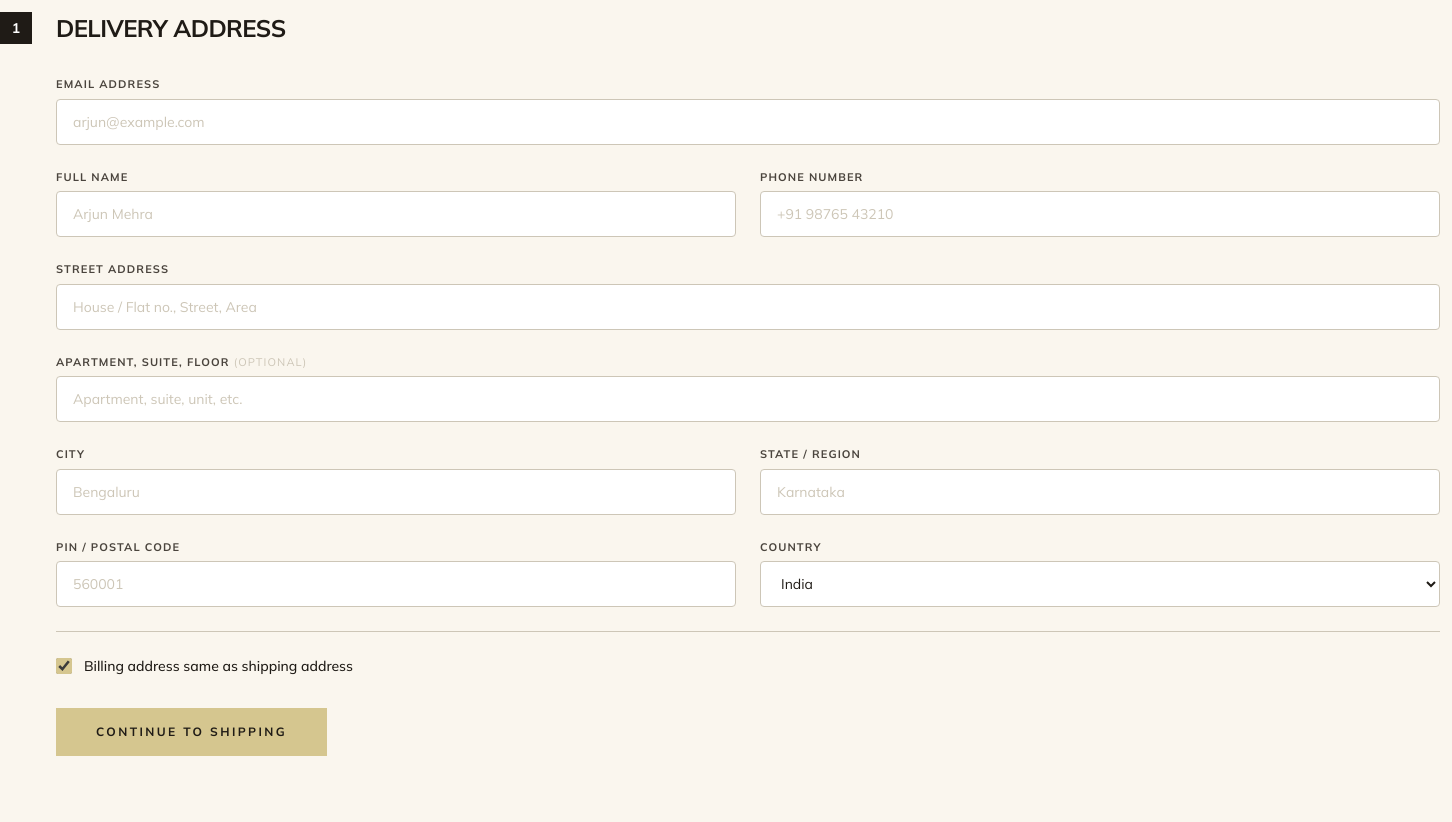
it: AddressStep › shows email format error for invalid email
Type "not-an-email" into the field with test id "input-email" at (748, 122), box [56,98,1440,144]
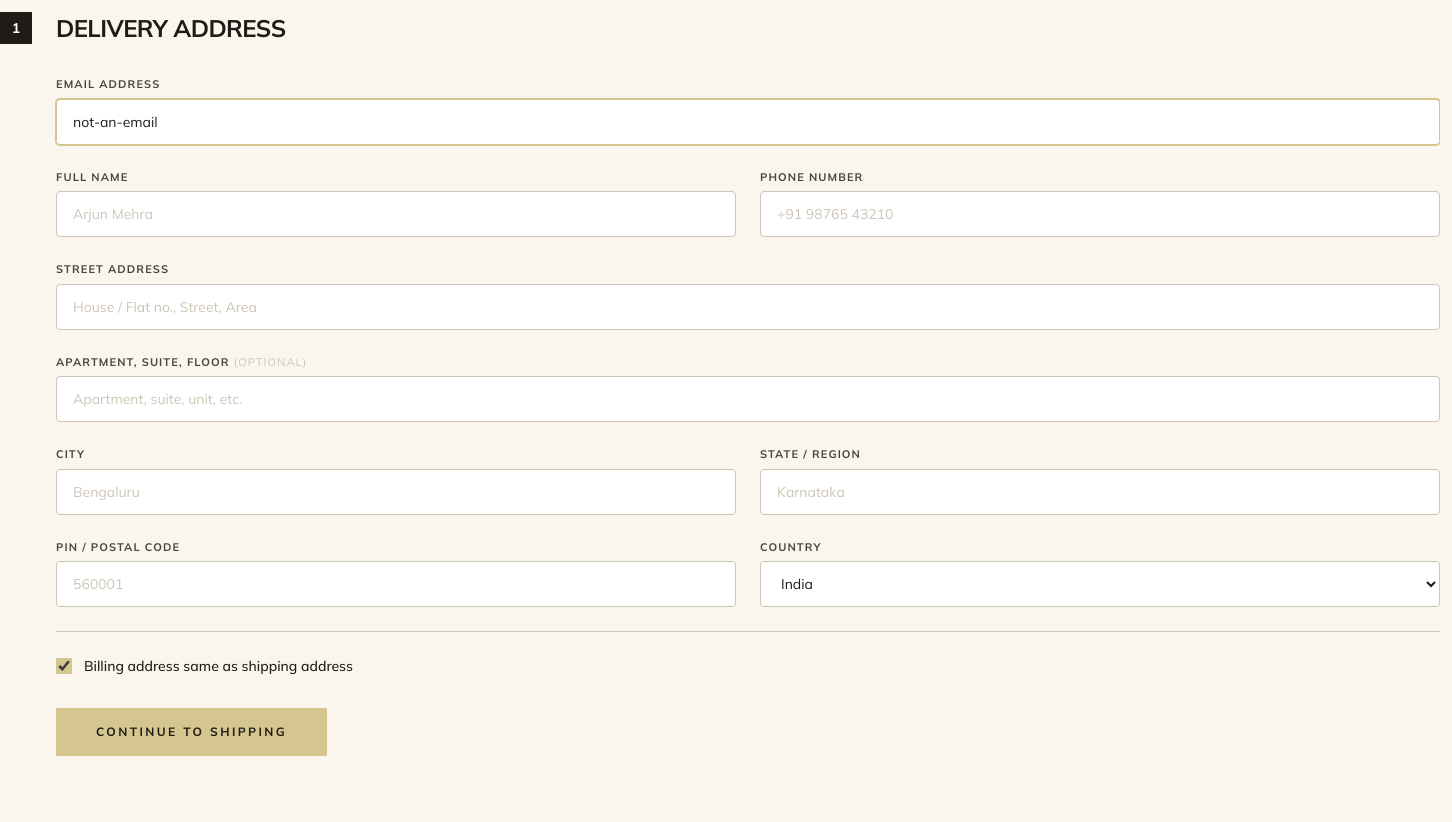
Click the button with test id "address-continue-button" at (192, 732), box [56,708,327,756]
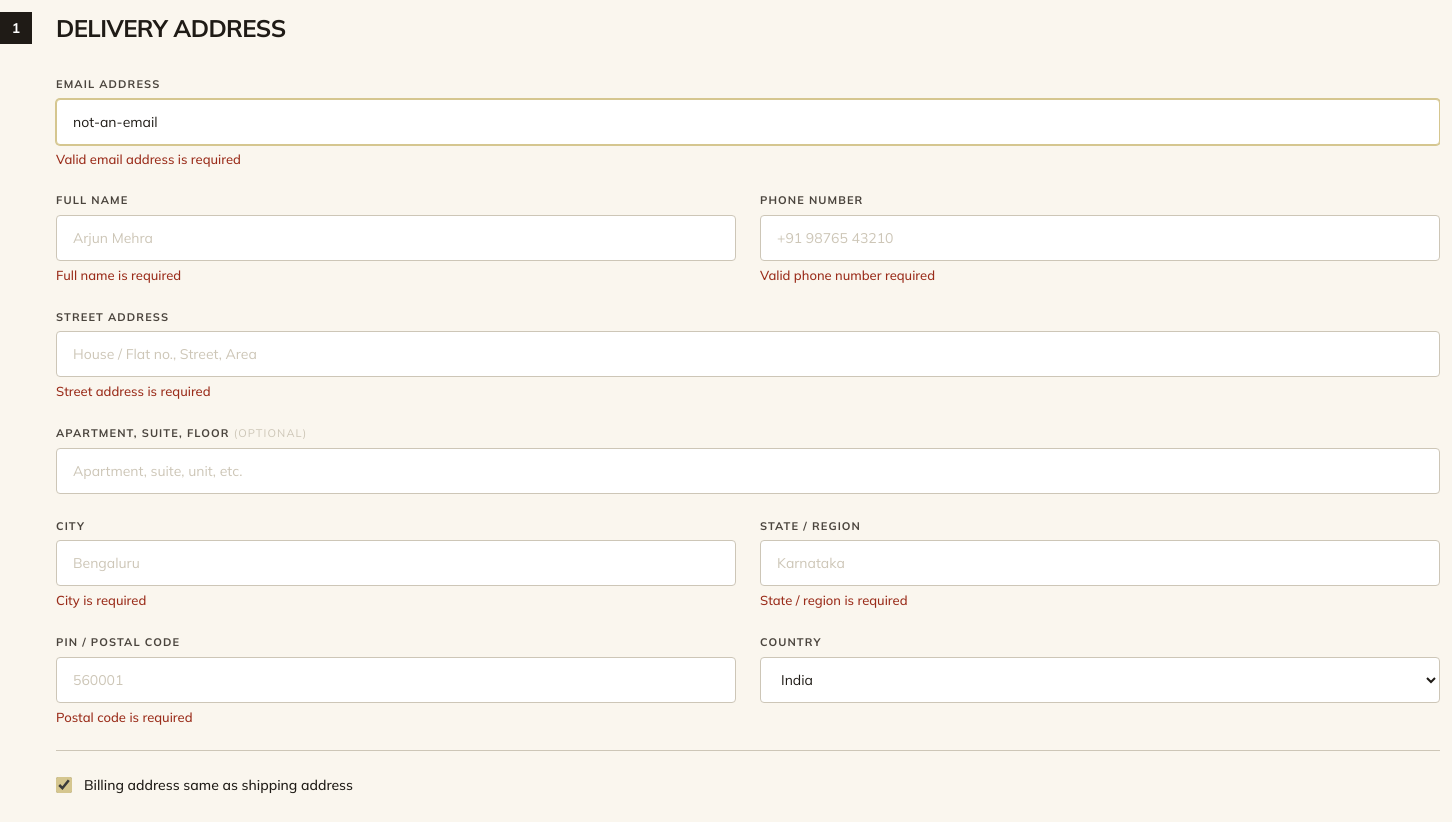
Result: the text "Valid email address is required" is shown at [56,150,241,166]
